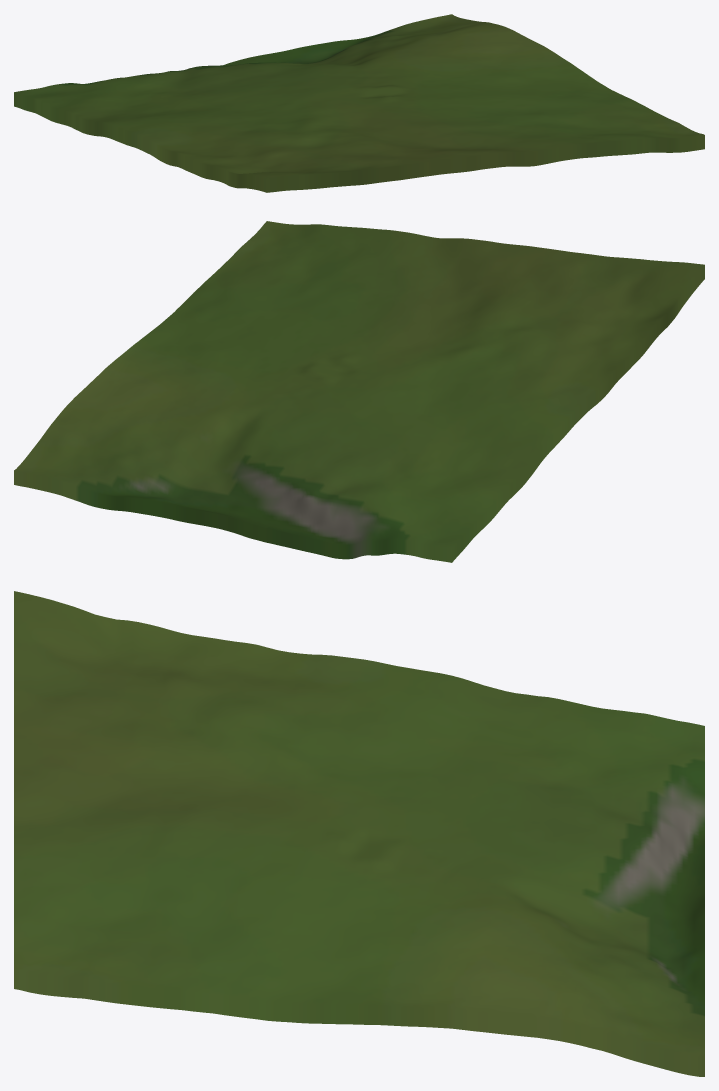
File: terrain_8_-11.glb
3 views of the same model, one above another, from view 1: azimuth 30°, elevation 25°; view 2: azimuth 150°, elevation 25°; view 3: azimuth 270°, elevation 25° (orthographic). The views are drawn at different scales.
Visible parts, largest first — view 1: terrain_8_-11; view 2: terrain_8_-11; view 3: terrain_8_-11.
Part boxes in pixels (x1,y1,x2,y2): terrain_8_-11: [14, 14, 704, 192]; terrain_8_-11: [14, 221, 704, 562]; terrain_8_-11: [14, 591, 704, 1076].
Bounding box in the file's own units: 256 × 80.63 × 256.
